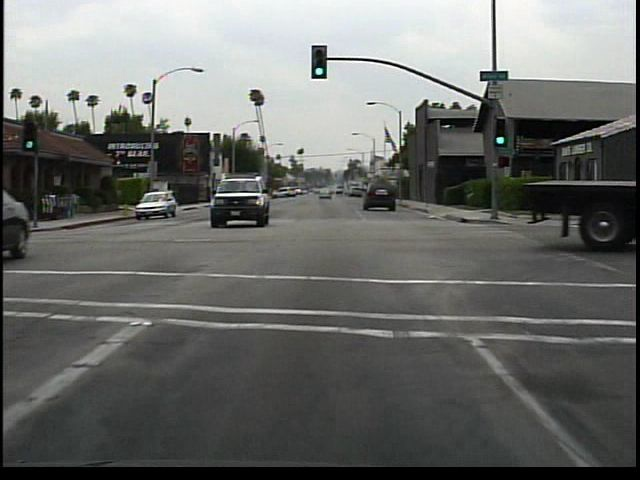person: (163, 183, 179, 207)
